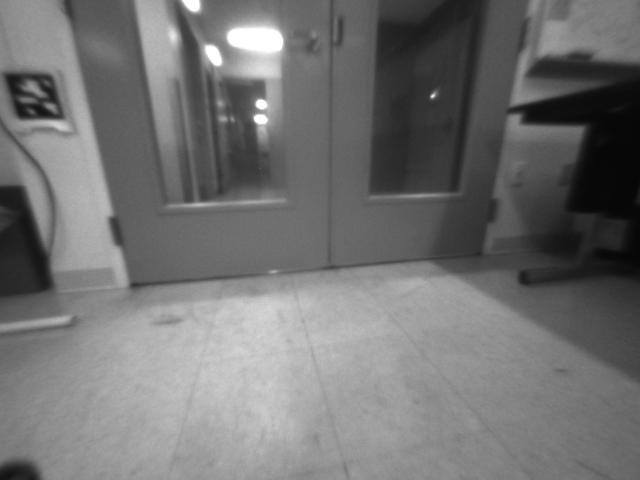door_handle: (278, 24, 323, 54)
